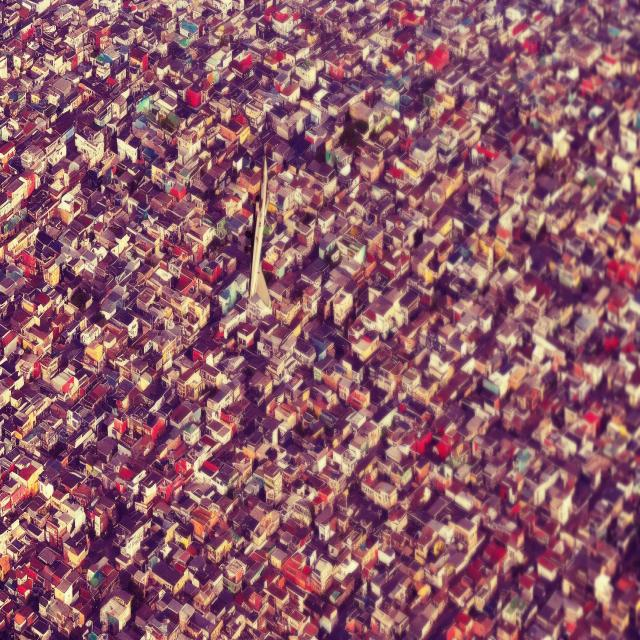airplane: (245, 157, 274, 309)
